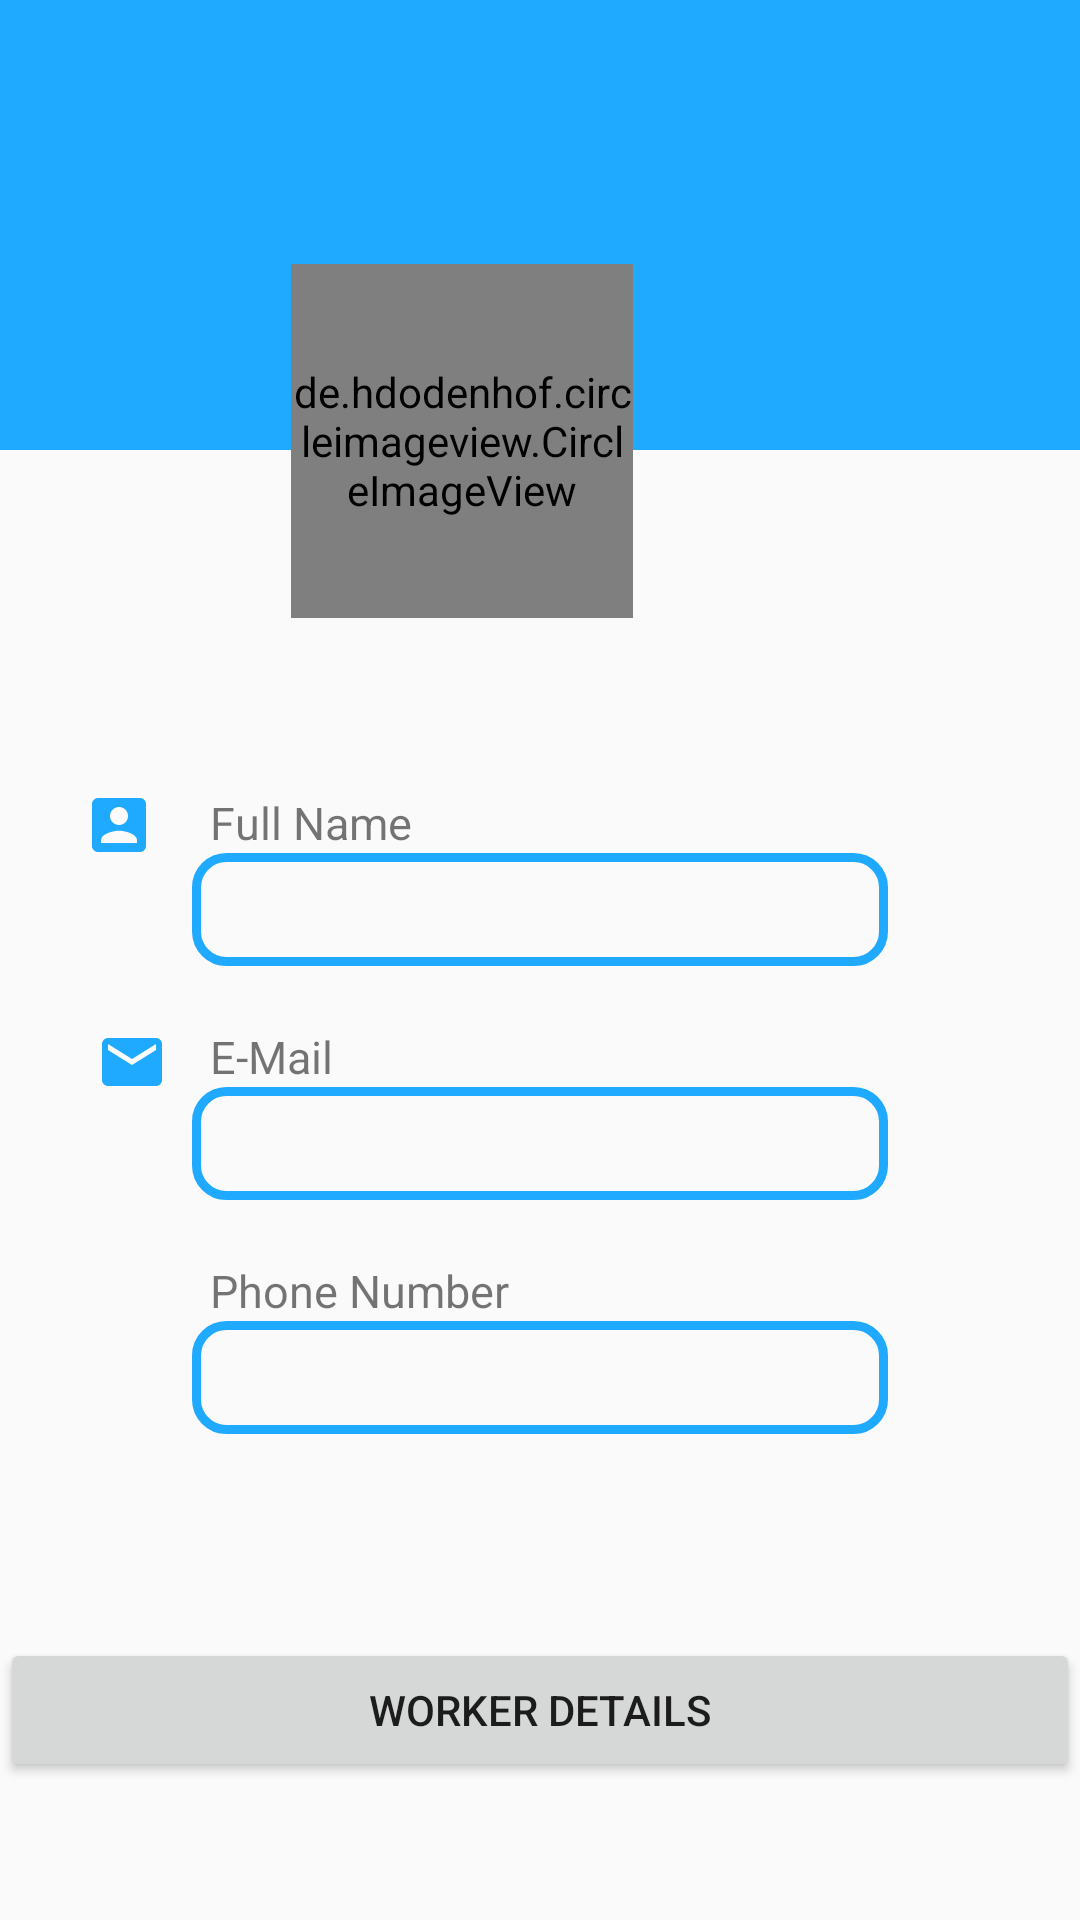

Where to tap for icons on this 1080 x 1920 app screen, as (x,y):
account box: (119,825)
